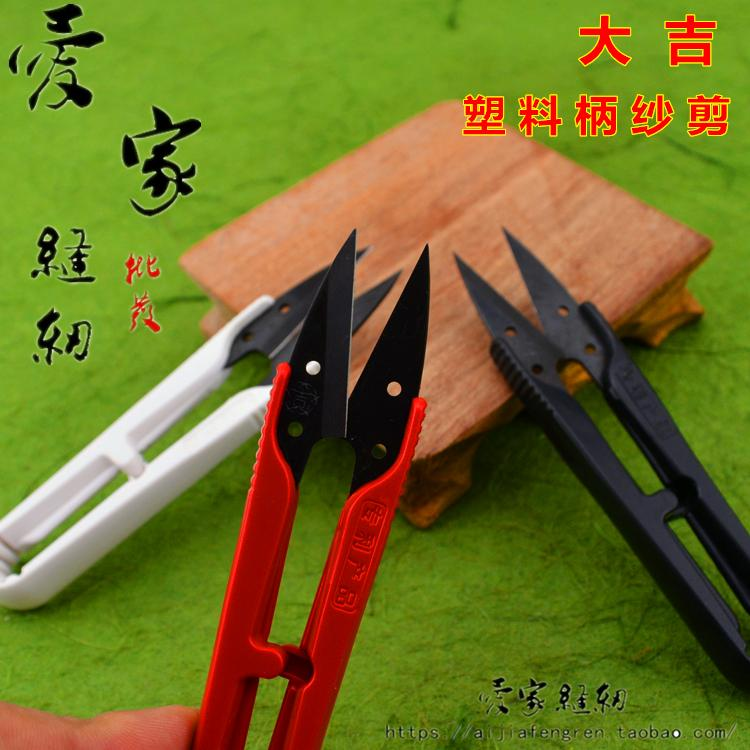scissor: (416, 142, 750, 642), (191, 172, 470, 719)
